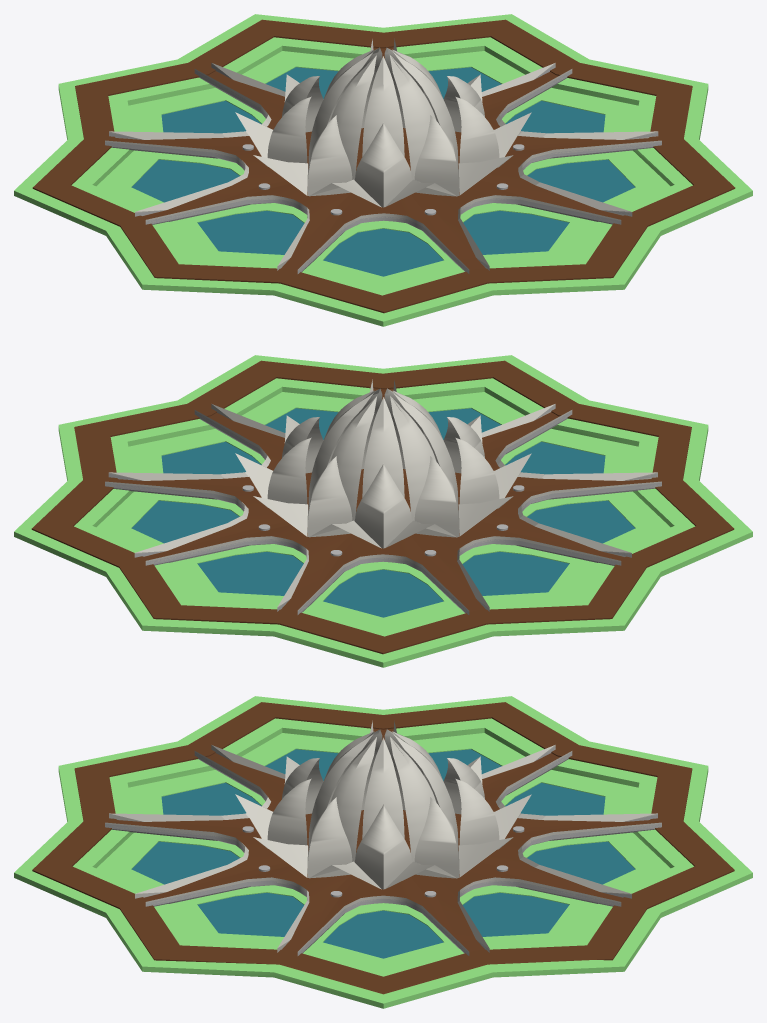
Rendered from Lotustemple.glb.
The picture shows the model from 3 angles, top to bottom: view 1: azimuth 30°, elevation 25°; view 2: azimuth 150°, elevation 25°; view 3: azimuth 270°, elevation 25°; orthographic projection.
Parts seen in each view (by area): view 1: Pool_Foundations, Outer_Foundation, Outer_Walkway, polySurface1, Bridge_Platform, pCube20, pCube5, pCube6, pCube7, pCube21, pCube19, pCube14 (+11 smaller); view 2: Pool_Foundations, Outer_Foundation, Outer_Walkway, polySurface1, Bridge_Platform, pCube17, pCube9, pCube10, pCube8, pCube18, pCube16, pCube19 (+11 smaller); view 3: Pool_Foundations, Outer_Foundation, Outer_Walkway, polySurface1, Bridge_Platform, pCube12, pCube2, pCube4, pCube11, pCube15, pCube14, pCube16 (+11 smaller).
Boxes of the visible parts, x1,y1,x2,y2 form: Pool_Foundations: [96, 51, 670, 287]; Outer_Foundation: [14, 14, 752, 326]; Outer_Walkway: [32, 19, 735, 313]; polySurface1: [105, 38, 661, 271]; Bridge_Platform: [105, 64, 661, 273]; pCube20: [355, 122, 411, 207]; pCube5: [362, 56, 404, 156]; pCube6: [390, 55, 435, 180]; pCube7: [331, 55, 376, 180]; pCube21: [414, 115, 459, 195]; pCube19: [307, 115, 352, 195]; pCube14: [455, 96, 499, 163]; Pool_Foundations: [96, 392, 670, 628]; Outer_Foundation: [14, 355, 752, 667]; Outer_Walkway: [31, 360, 734, 654]; polySurface1: [105, 379, 661, 613]; Bridge_Platform: [105, 405, 661, 614]; pCube17: [355, 463, 411, 548]; pCube9: [362, 397, 404, 497]; pCube10: [331, 396, 376, 521]; pCube8: [390, 396, 435, 521]; pCube18: [414, 456, 459, 536]; pCube16: [307, 456, 352, 536]; pCube19: [455, 437, 499, 504]; Pool_Foundations: [96, 733, 670, 969]; Outer_Foundation: [14, 696, 752, 1008]; Outer_Walkway: [32, 702, 734, 994]; polySurface1: [105, 720, 661, 954]; Bridge_Platform: [105, 747, 661, 955]; pCube12: [355, 804, 411, 889]; pCube2: [362, 737, 404, 838]; pCube4: [331, 737, 376, 862]; pCube11: [390, 737, 435, 862]; pCube15: [414, 797, 459, 877]; pCube14: [307, 797, 352, 877]; pCube16: [455, 778, 499, 845].
Bounding box in the file's own units: 6.36 × 1.2 × 6.45.
